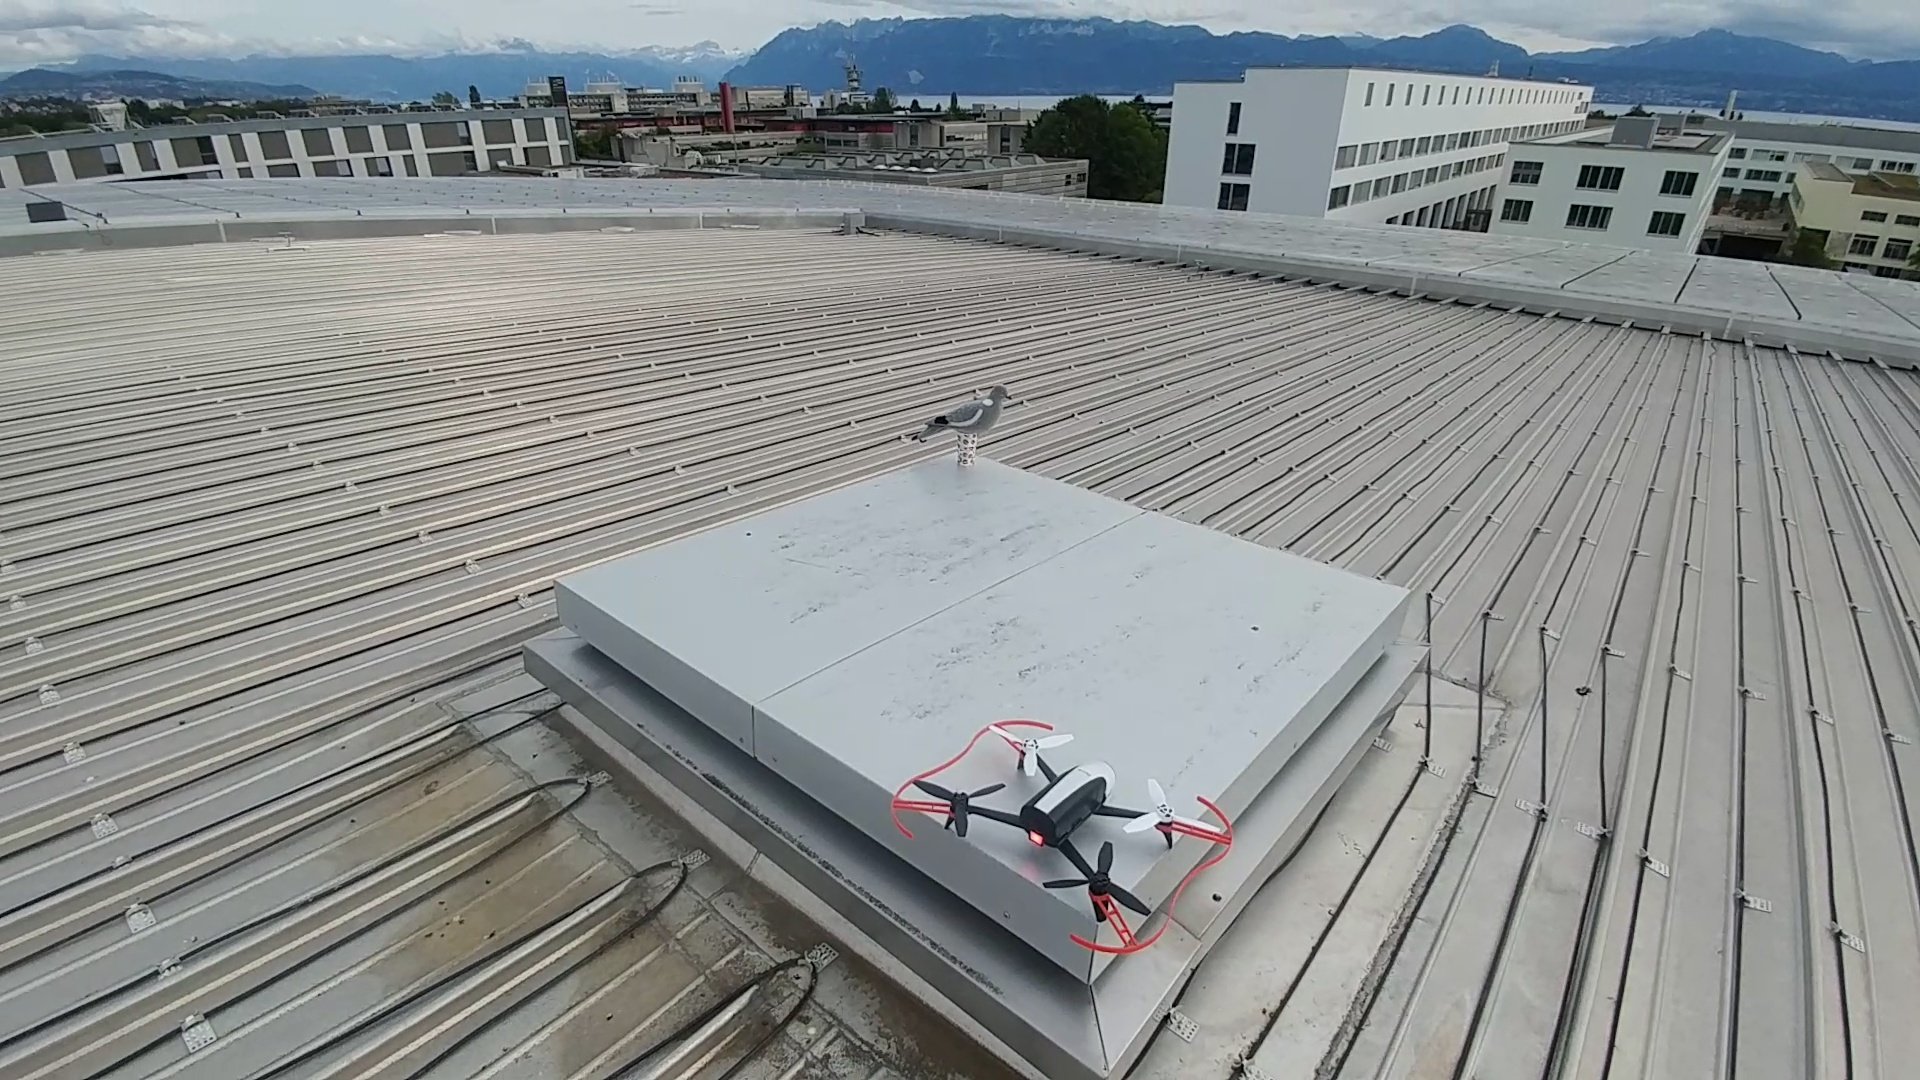Pigeon: (910, 386, 1010, 440)
